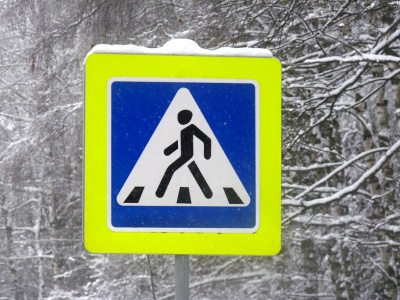crosswalk: (114, 86, 254, 223)
